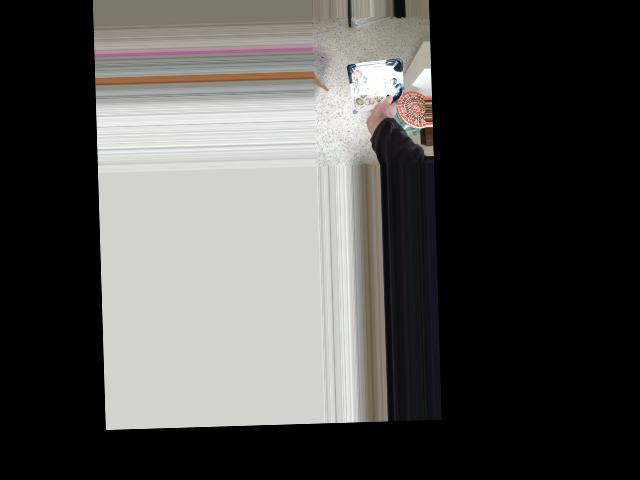cheese: (348, 69, 406, 132)
